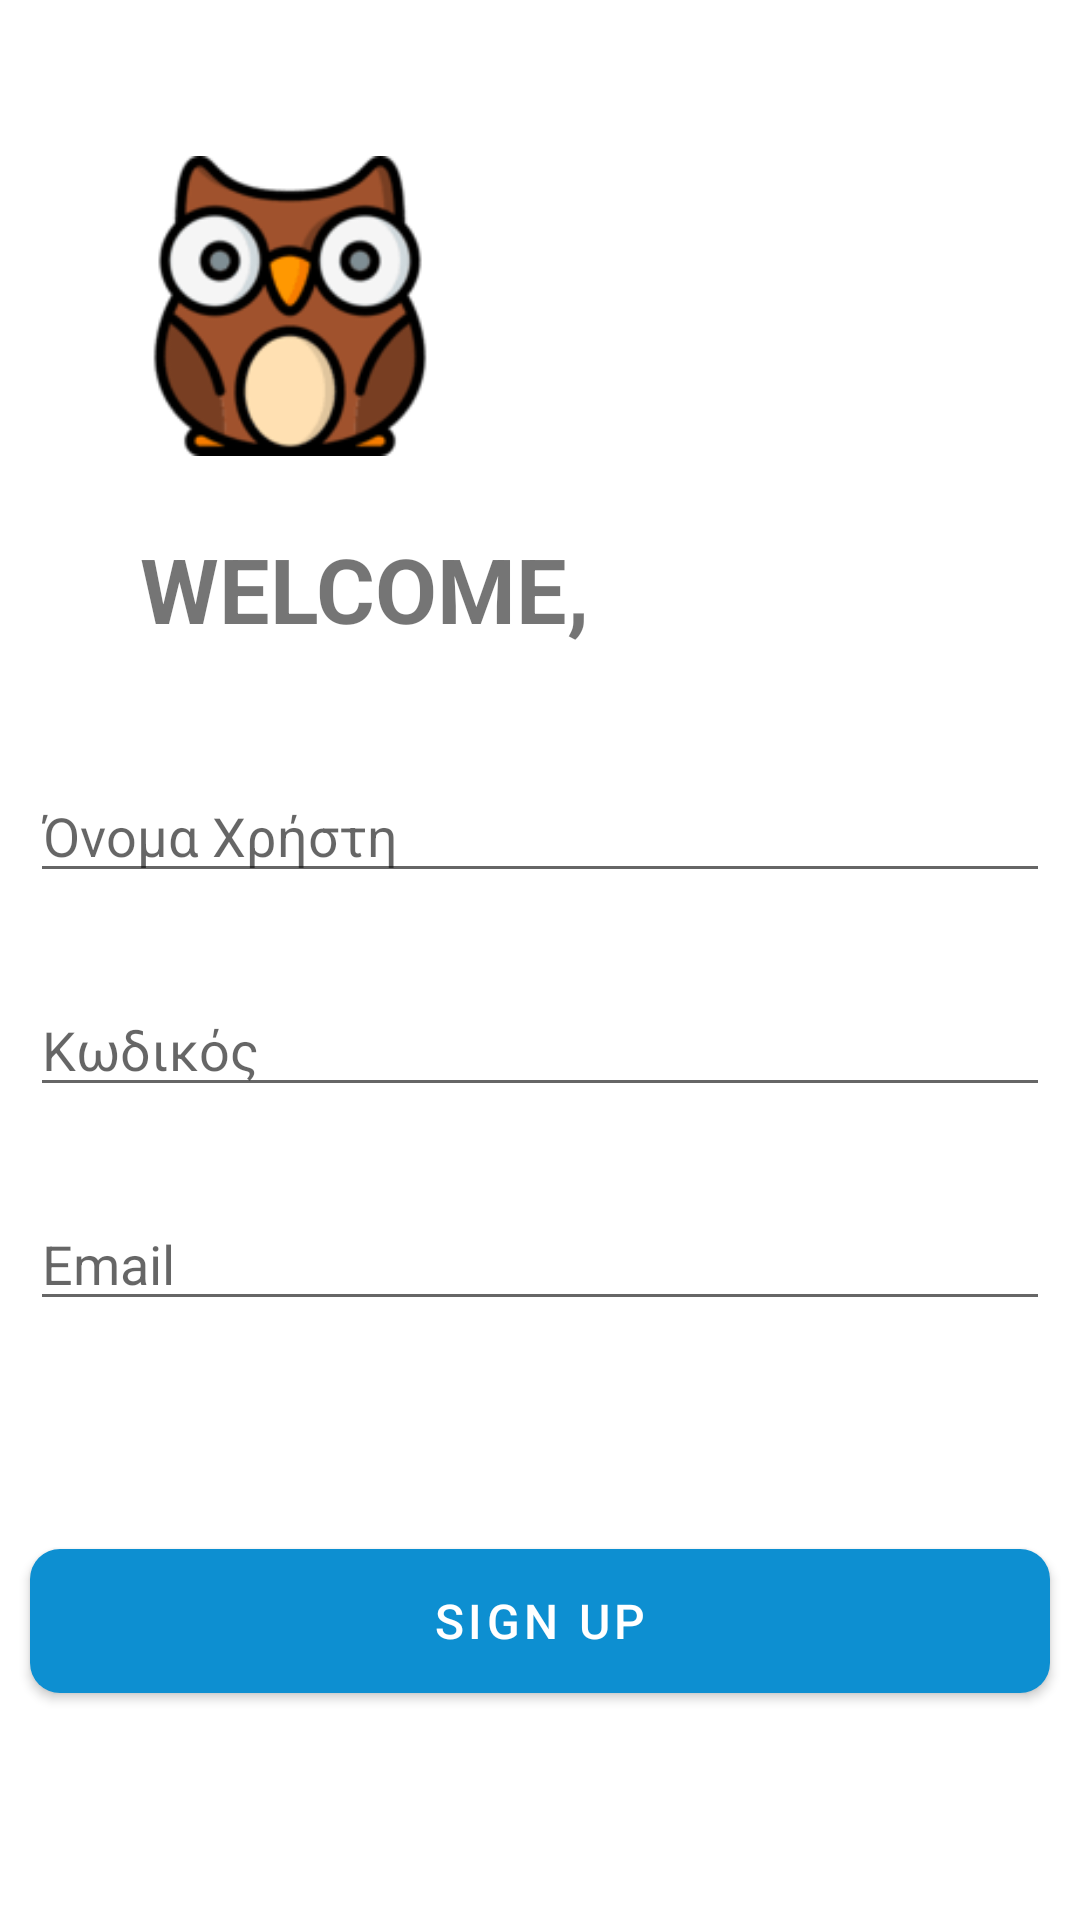

Icon click points for this 1080x1920 phone screenshot, format point (x, y):
owl: point (290, 306)
